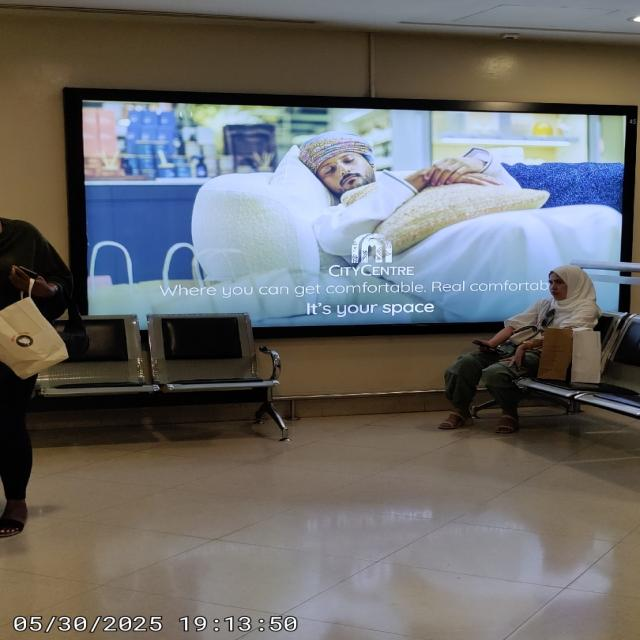digital-board-big: (66, 91, 633, 310)
